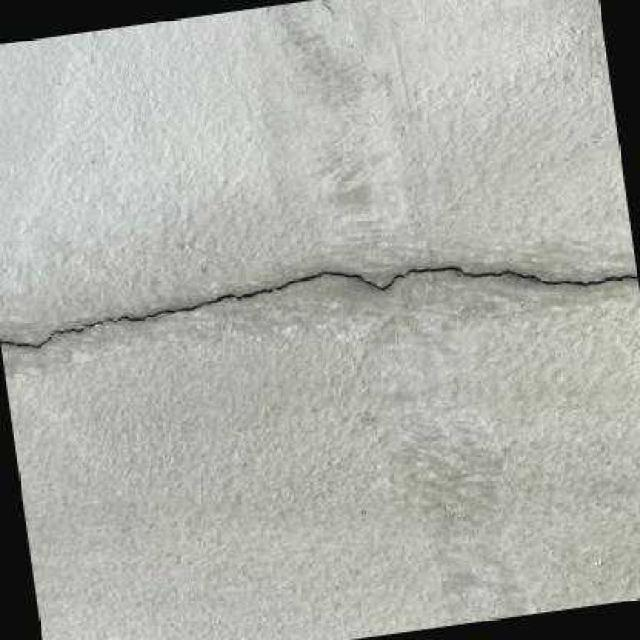D00: (0, 264, 637, 346)
